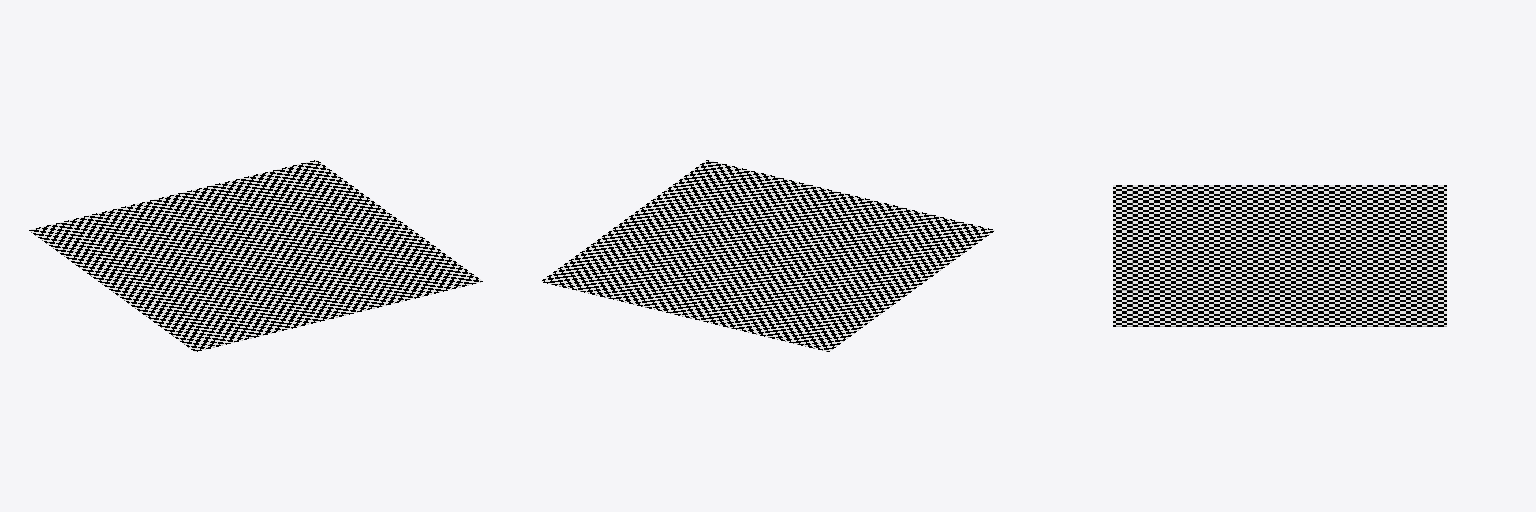
The picture shows the model from 3 angles: view 1: azimuth 30°, elevation 25°; view 2: azimuth 150°, elevation 25°; view 3: azimuth 270°, elevation 25°; orthographic projection.
Visible parts, largest first — view 1: floor; view 2: floor; view 3: floor.
Part boxes in pixels (x1,y1,x2,y2): floor: (29, 160, 482, 351); floor: (541, 160, 994, 351); floor: (1113, 185, 1446, 326).
Size of the model in its own units: 1000 by 1 by 1000.
1 materials, 1 textured.